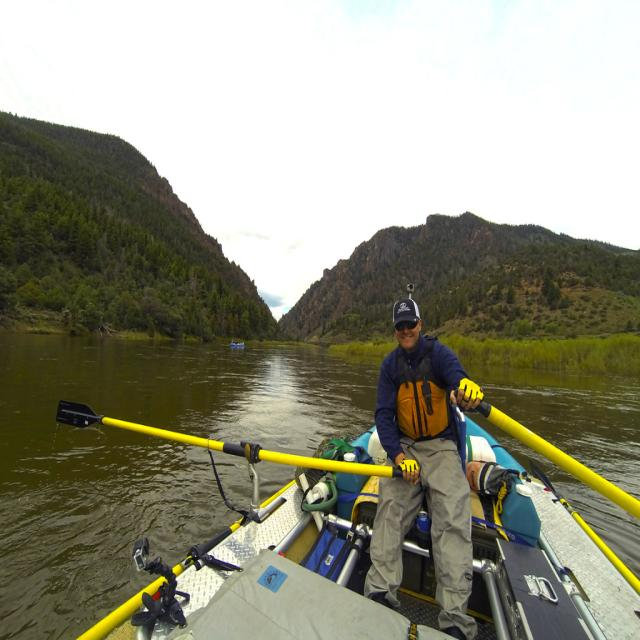Boat: (52, 341, 630, 619), (230, 344, 244, 350)
